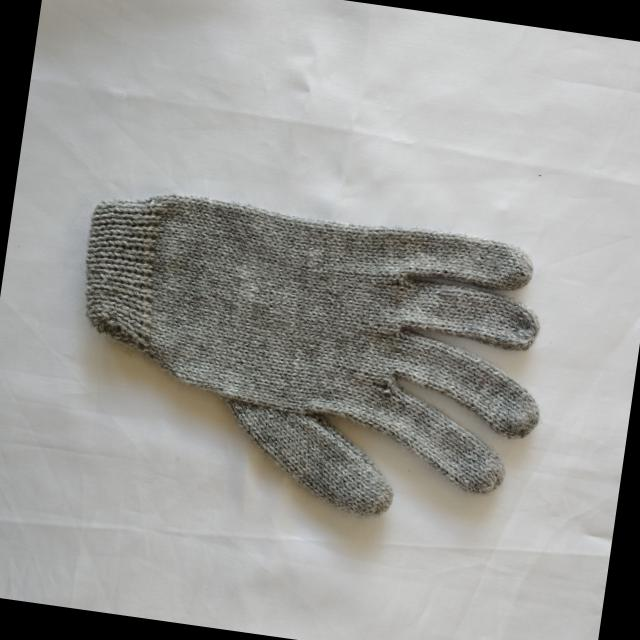Guante: (54, 182, 563, 542)
